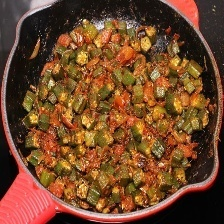sabzi: (16, 12, 211, 215)
